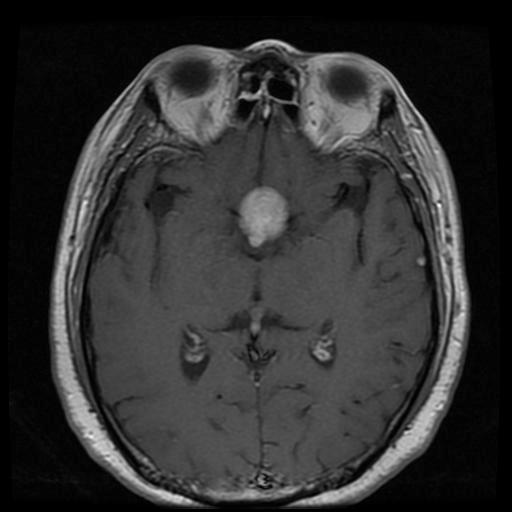Tumour-Pituitary: (238, 189, 293, 249)
